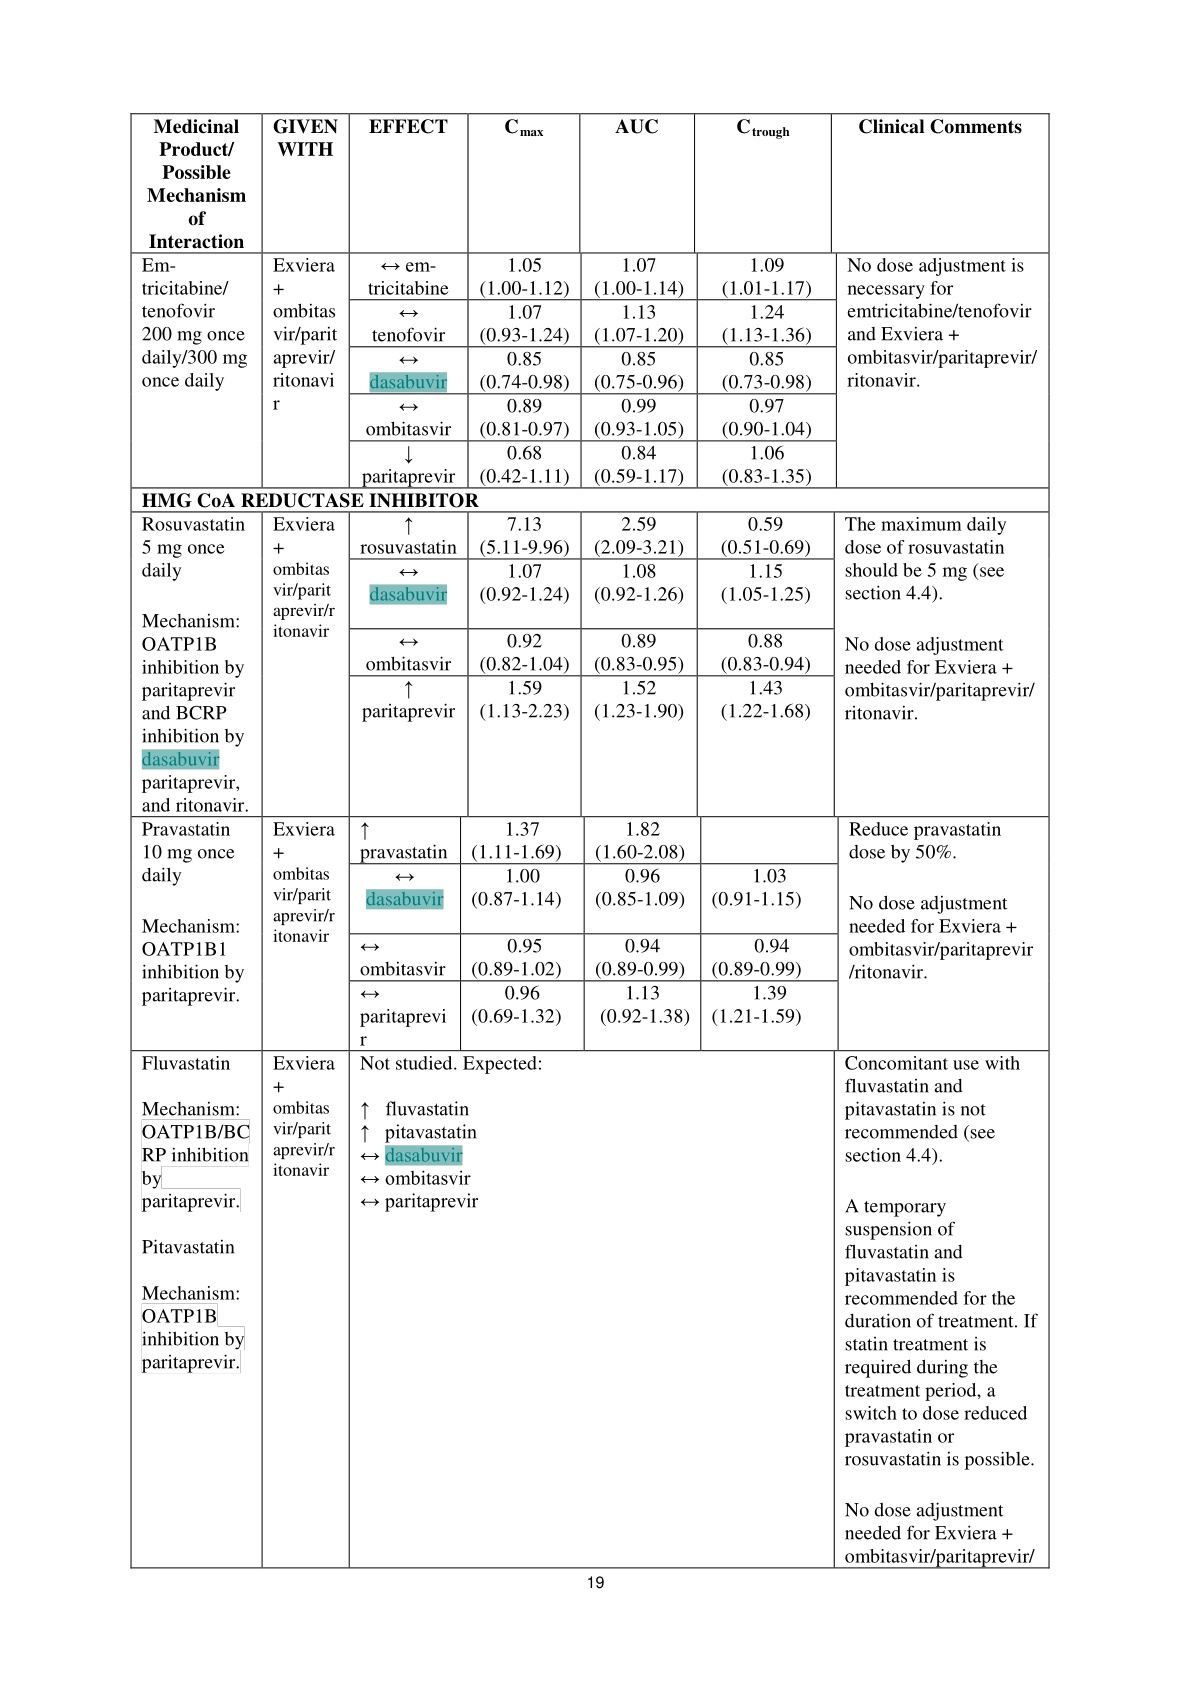merged_cells: (129, 112, 1051, 1571)
